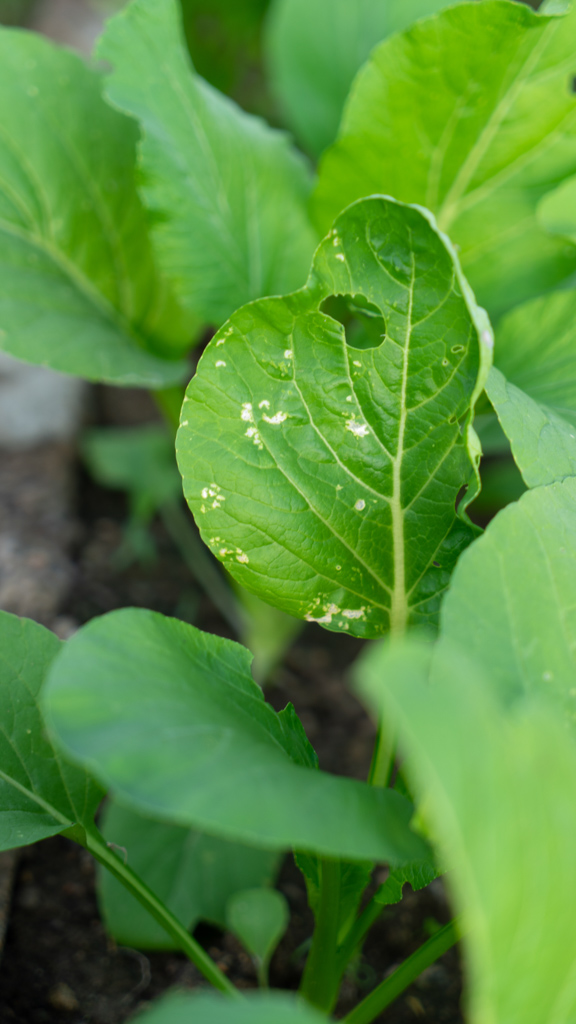Canker: (193, 478, 259, 576), (226, 366, 290, 462), (295, 594, 386, 635), (332, 408, 376, 443), (339, 491, 368, 513)
